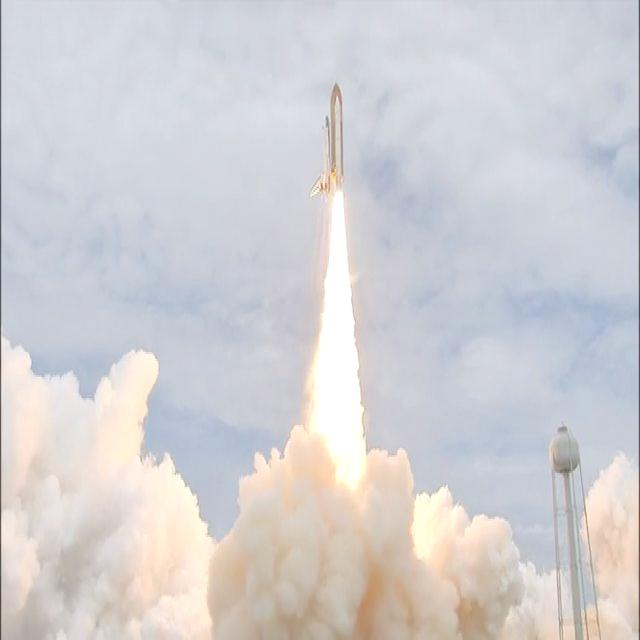fire: (318, 422, 368, 482), (323, 299, 353, 374), (307, 371, 337, 414), (338, 382, 359, 424), (329, 254, 348, 299), (335, 192, 345, 242)
smoke: (30, 378, 99, 640), (345, 562, 523, 640), (100, 390, 138, 640), (4, 353, 28, 636), (158, 504, 208, 638), (140, 468, 176, 638), (211, 550, 272, 635), (280, 556, 340, 636), (408, 503, 469, 574), (593, 484, 635, 584), (368, 461, 406, 567), (276, 448, 322, 519), (323, 487, 367, 557), (244, 488, 290, 552), (475, 526, 506, 592), (531, 582, 560, 640), (118, 358, 148, 407), (602, 596, 633, 628)
